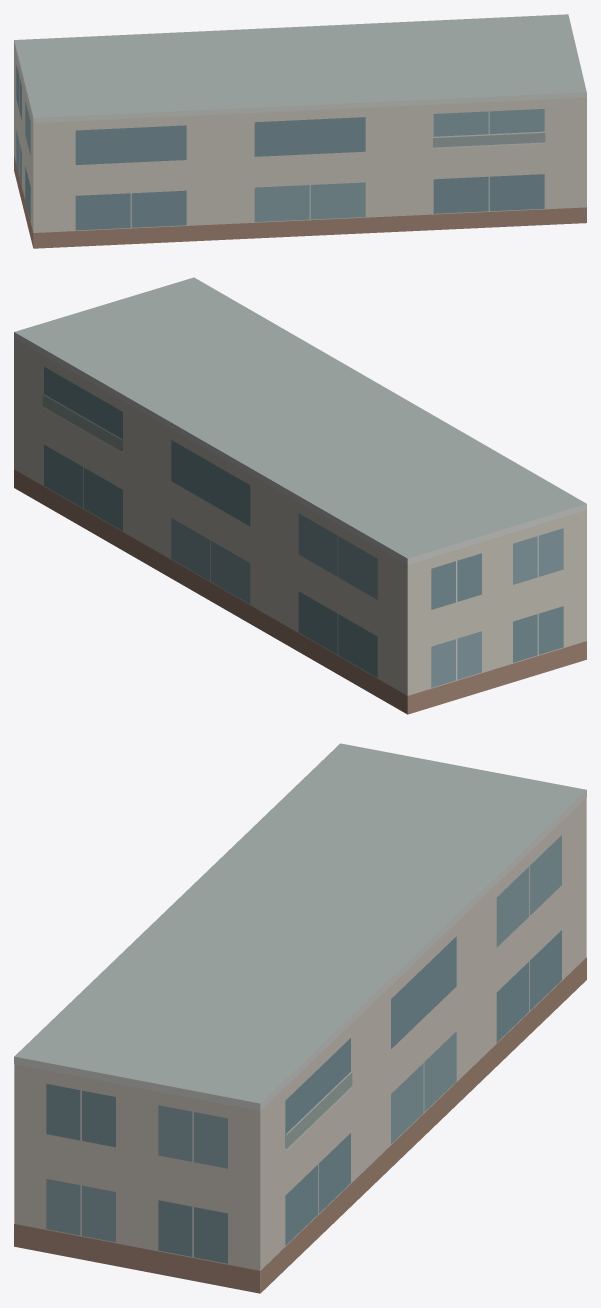
The model's file is survey-upis-32933566.glb.
3 renders of one model, top to bottom at view 1: azimuth 30°, elevation 25°; view 2: azimuth 150°, elevation 25°; view 3: azimuth 270°, elevation 25°, orthographic. The views are drawn at different scales.
Visible parts, largest first — view 1: survey-upis-32933566.tmp; view 2: survey-upis-32933566.tmp; view 3: survey-upis-32933566.tmp.
Boxes of the visible parts, <box> form: survey-upis-32933566.tmp: <box>14,14,586,248</box>; survey-upis-32933566.tmp: <box>14,277,586,714</box>; survey-upis-32933566.tmp: <box>14,743,586,1293</box>.
Bounding box in the file's own units: 24.81 × 6.1 × 16.67.
